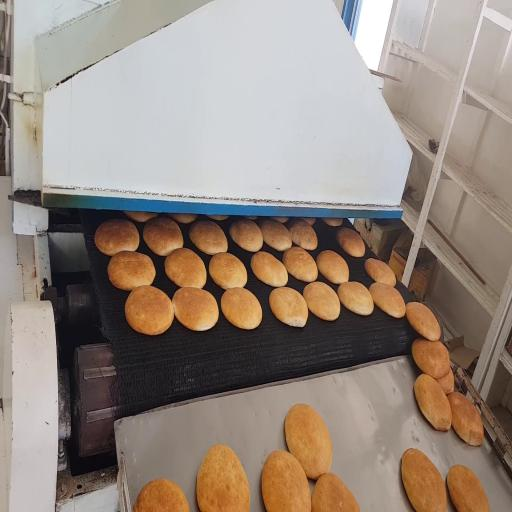bread: (285, 404, 332, 479), (196, 445, 249, 511), (262, 450, 311, 511), (402, 449, 446, 511), (125, 286, 174, 335), (414, 374, 451, 430), (107, 251, 156, 291), (447, 392, 483, 446), (173, 288, 218, 331), (447, 465, 489, 511), (312, 473, 360, 511), (133, 479, 189, 511), (221, 288, 262, 329), (165, 248, 206, 288), (143, 217, 183, 256), (95, 220, 139, 255), (412, 339, 450, 379), (270, 287, 308, 327), (303, 282, 340, 320), (209, 253, 247, 289), (251, 252, 288, 287), (406, 302, 440, 340), (369, 283, 405, 318), (190, 221, 227, 255), (283, 247, 317, 282), (338, 282, 373, 315), (316, 250, 349, 284), (229, 219, 263, 252), (260, 220, 291, 251), (288, 219, 317, 250), (365, 258, 396, 286), (337, 228, 365, 257), (437, 369, 454, 394), (124, 211, 157, 222), (169, 214, 197, 224), (323, 218, 343, 227), (207, 216, 229, 221), (271, 217, 289, 223), (302, 218, 315, 225), (246, 216, 257, 220)
